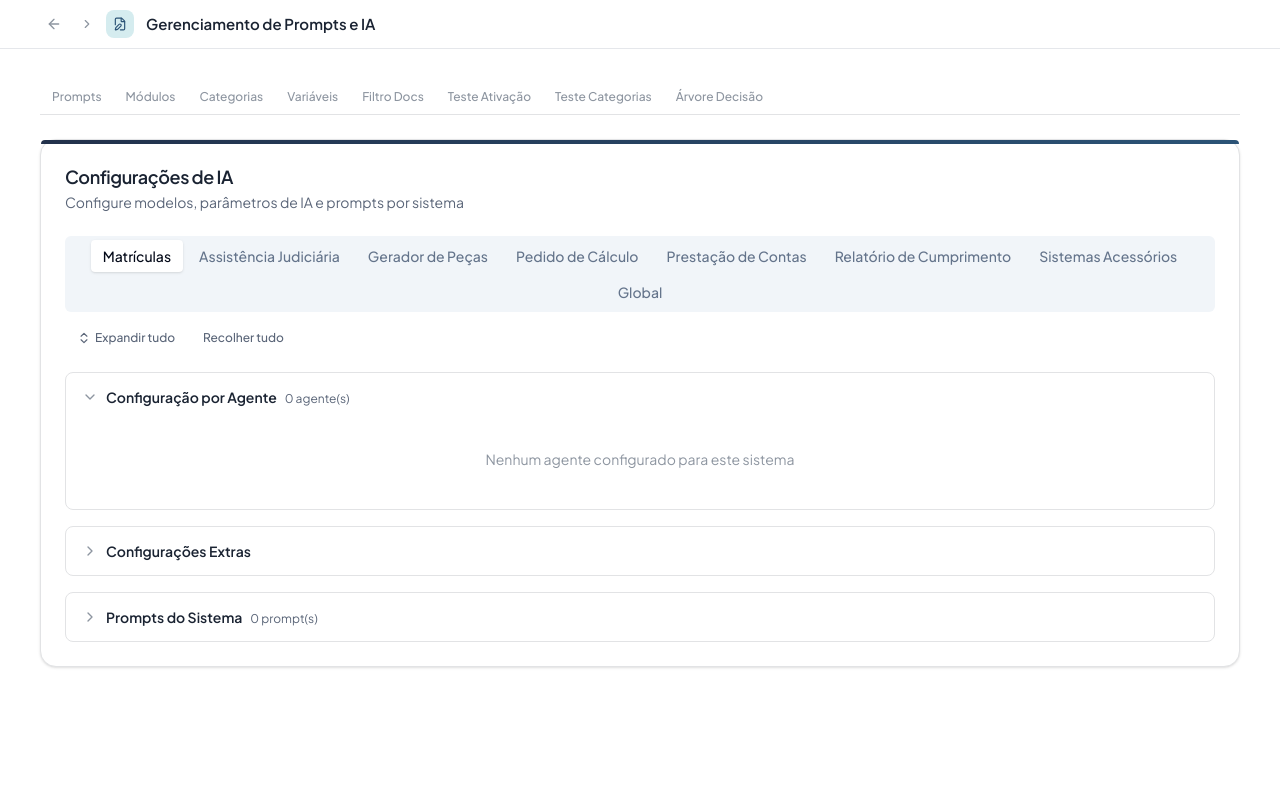
Test: PromptsPage › deve exibir mensagem quando não há prompts
// Expandir seção de prompts
Step 1. Click the button "Prompts do Sistema0 prompt(s)" → (174, 617), box left=66, top=593, right=1214, bottom=641
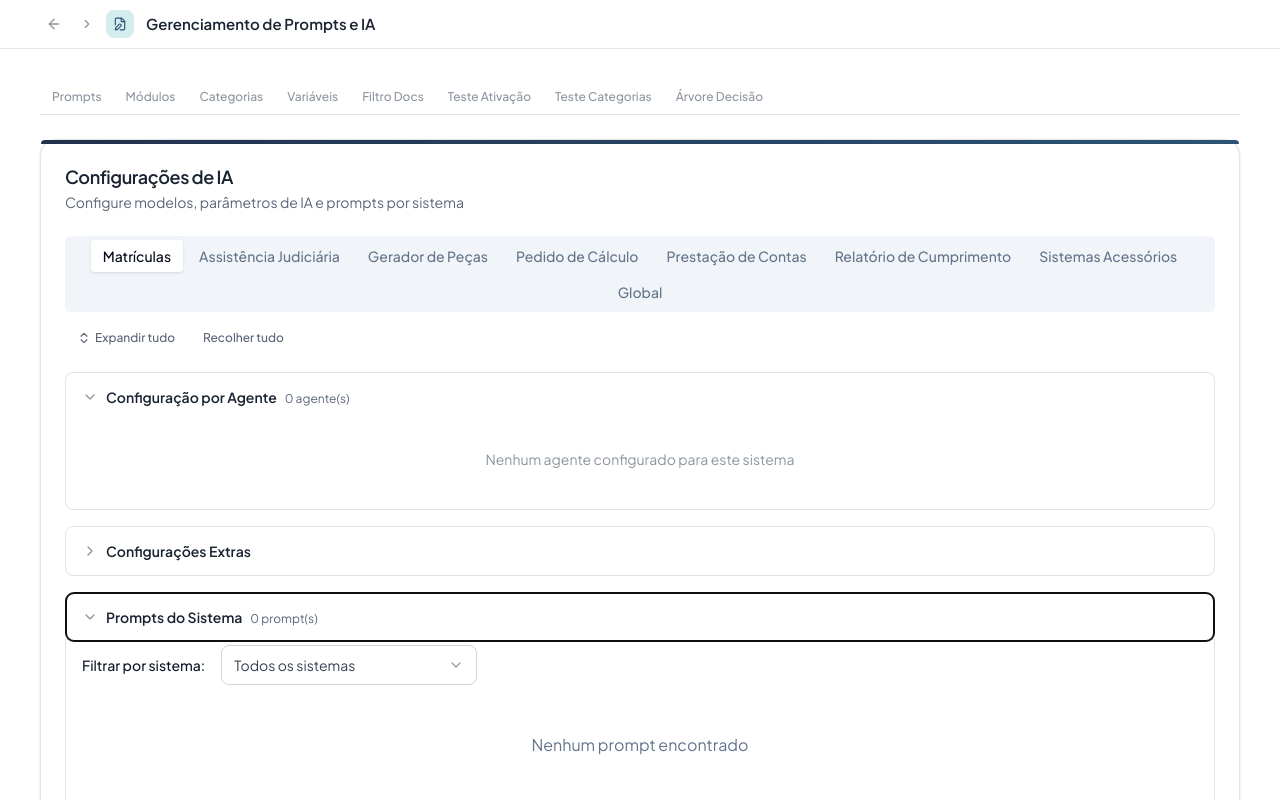
Result: the text "Nenhum prompt encontrado" is shown at left=532, top=734, right=749, bottom=755
